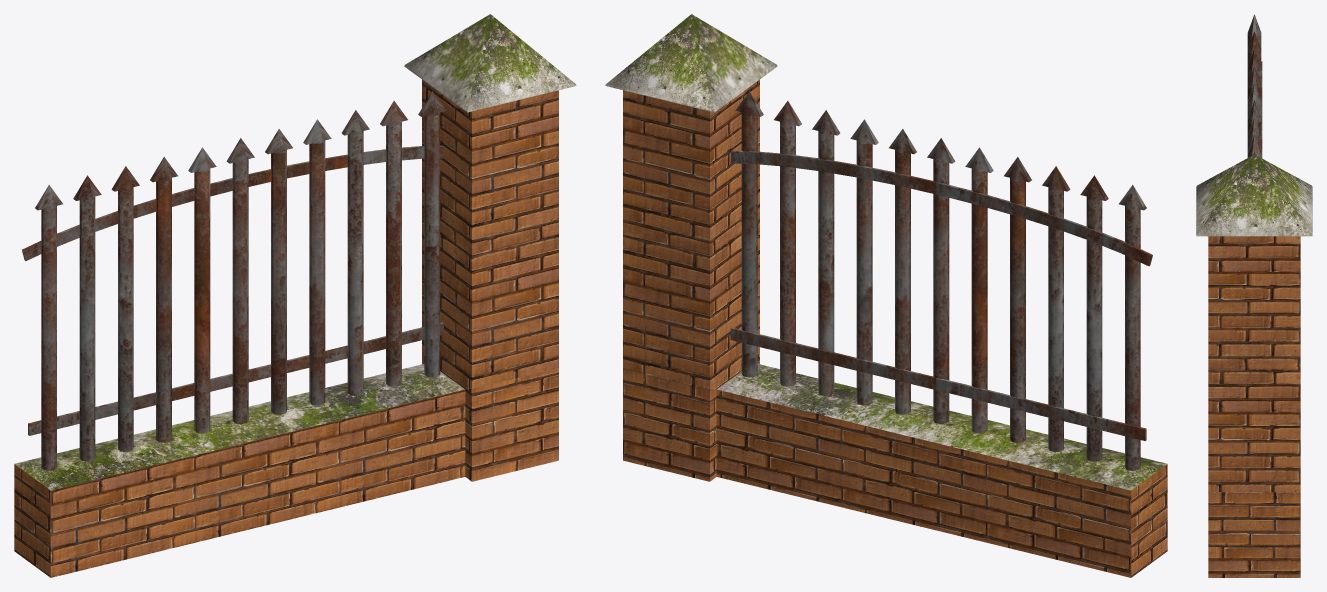
Rendered from zabor.fbx.
3 views of the same model, side by side, from view 1: azimuth 30°, elevation 25°; view 2: azimuth 150°, elevation 25°; view 3: azimuth 270°, elevation 25° (orthographic). The views are drawn at different scales.
Parts seen in each view (by area): view 1: Cube.002; view 2: Cube.002; view 3: Cube.002.
Boxes of the visible parts, x1,y1,x2,y2 form: Cube.002: (14,14,576,577); Cube.002: (605,14,1167,577); Cube.002: (1196,14,1312,577).
Bounding box in the file's own units: 411 × 332 × 86.55.
Materials: 1 (1 with a texture image).
